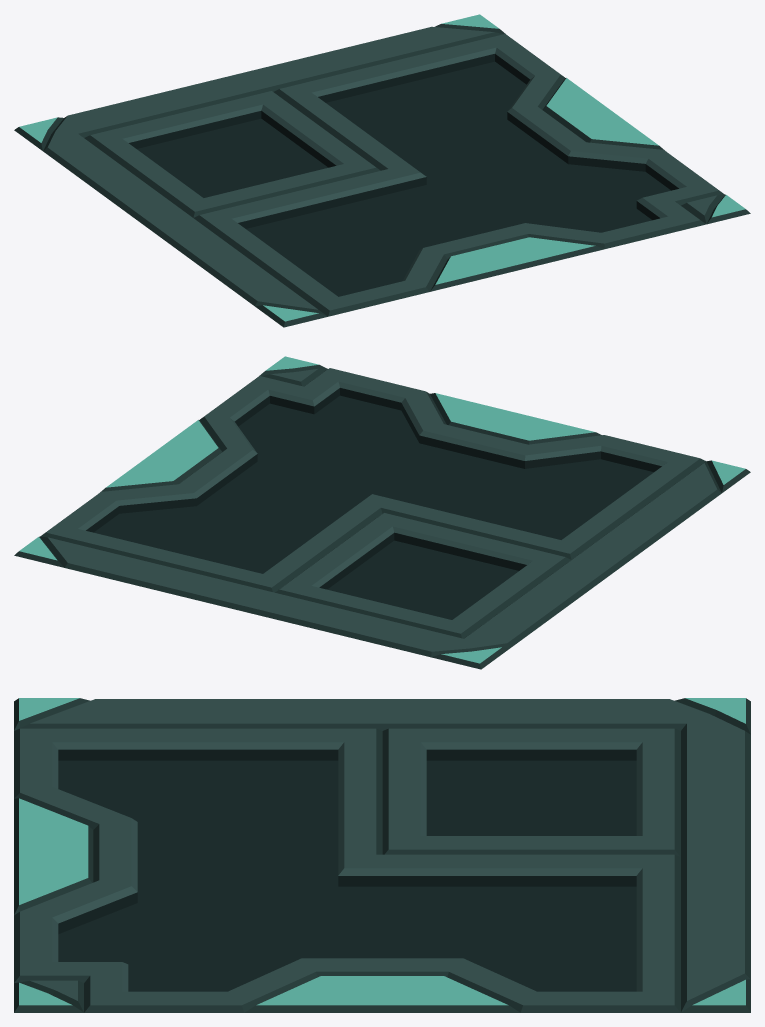
Rendered from Ground_Var06.fbx.
3 views of the same model, one above another, from view 1: azimuth 30°, elevation 25°; view 2: azimuth 150°, elevation 25°; view 3: azimuth 270°, elevation 25° (orthographic). The views are drawn at different scales.
Visible parts, largest first — view 1: Ground_Var06; view 2: Ground_Var06; view 3: Ground_Var06.
Part boxes in pixels (x1=…): Ground_Var06: x1=14, y1=14, x2=750, y2=327; Ground_Var06: x1=14, y1=356, x2=750, y2=669; Ground_Var06: x1=14, y1=698, x2=750, y2=1012.
Bounding box in the file's own units: 600 × 14.47 × 600.
